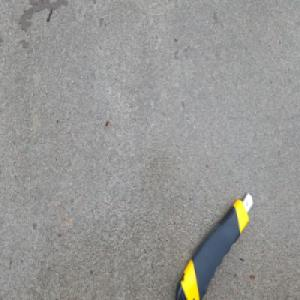Cutter: (172, 190, 253, 300)
